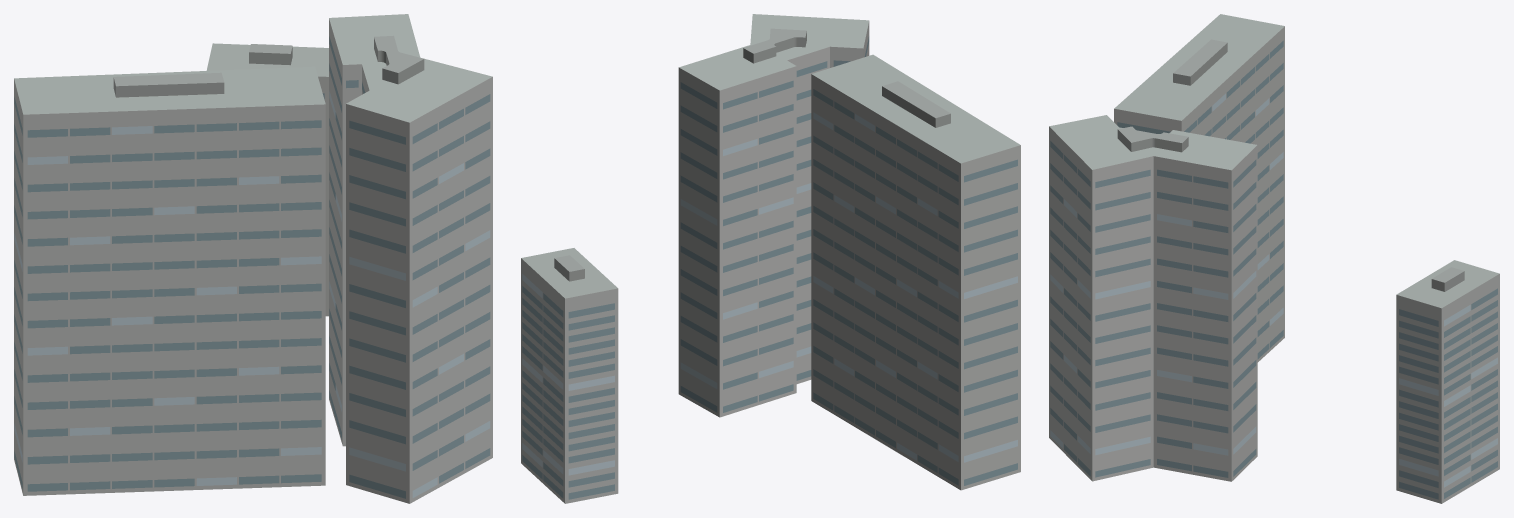
File: apt-a15004504.glb
3 renders of one model, left to right at view 1: azimuth 30°, elevation 25°; view 2: azimuth 150°, elevation 25°; view 3: azimuth 270°, elevation 25°, orthographic. The views are drawn at different scales.
Parts seen in each view (by area): view 1: apt-a15004504; view 2: apt-a15004504; view 3: apt-a15004504.
Part boxes in pixels (x1=…): apt-a15004504: x1=14, y1=14, x2=492, y2=503; apt-a15004504: x1=521, y1=14, x2=1020, y2=503; apt-a15004504: x1=1049, y1=14, x2=1499, y2=503.
Size of the model in its own units: 99.01 by 83 by 106.
